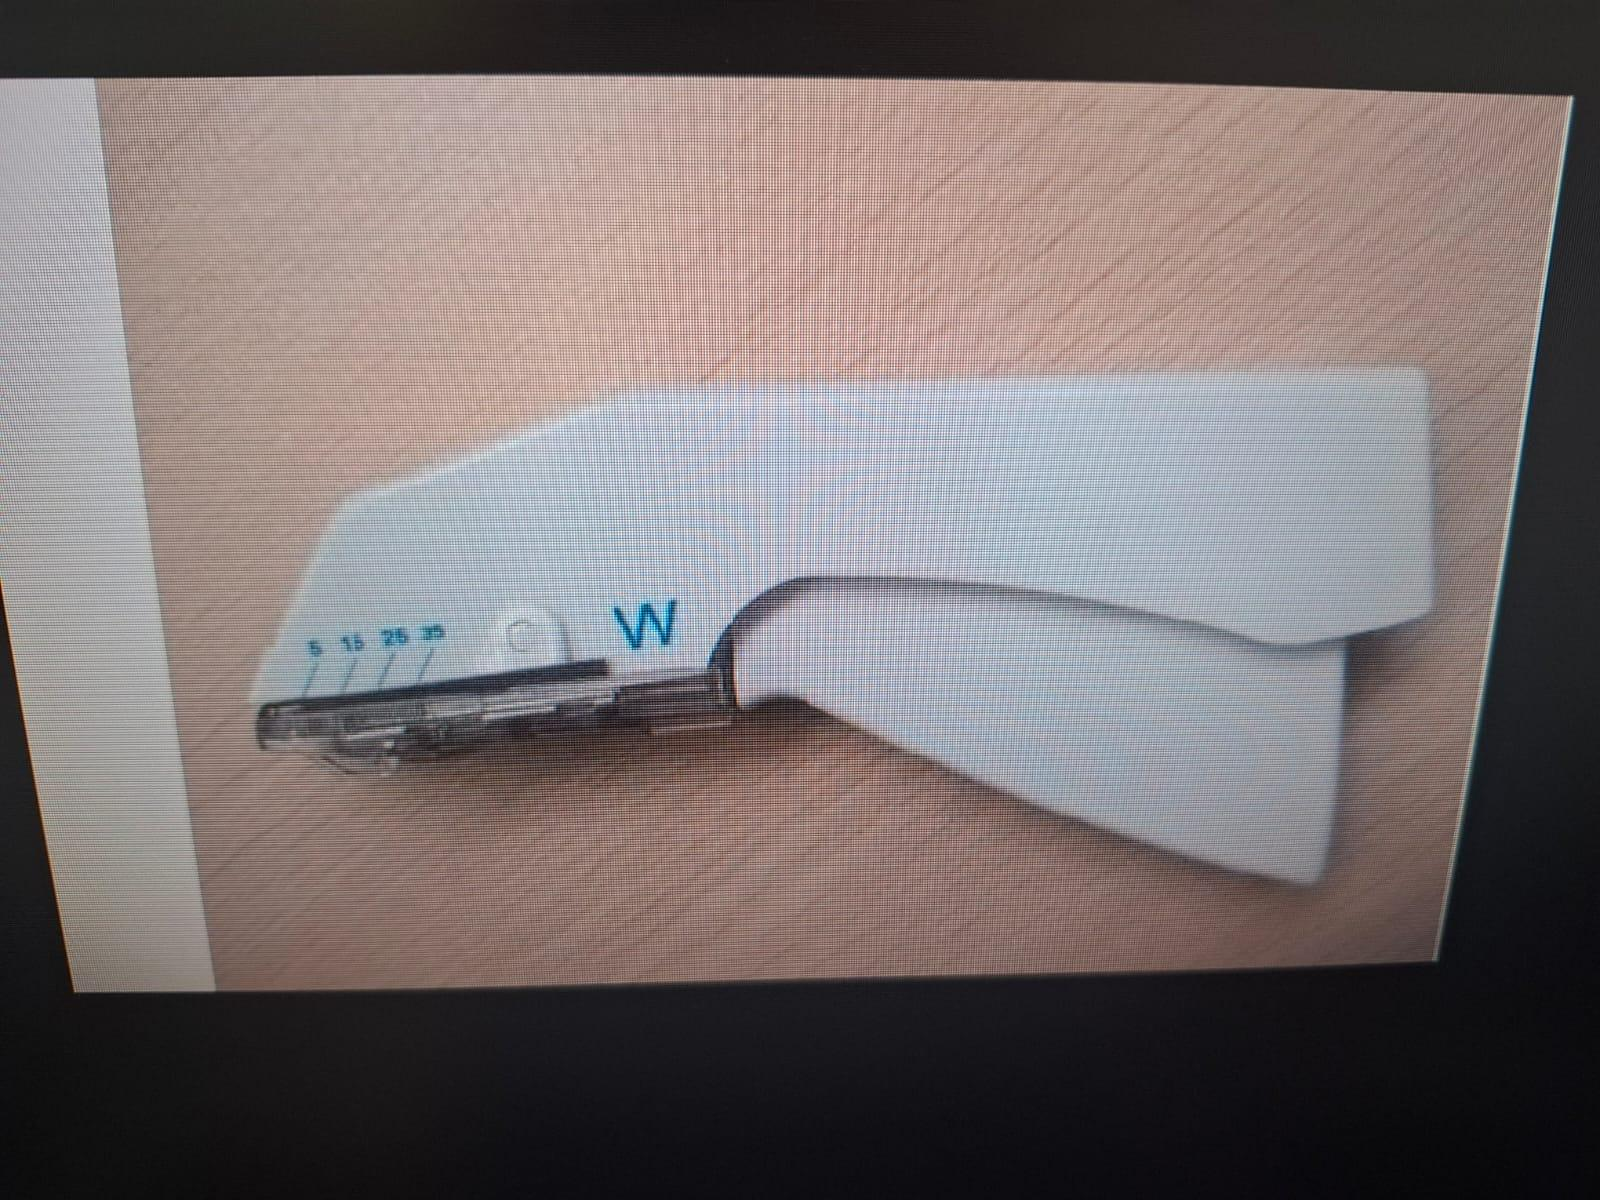Skin Stapler: (231, 320, 1458, 904)
